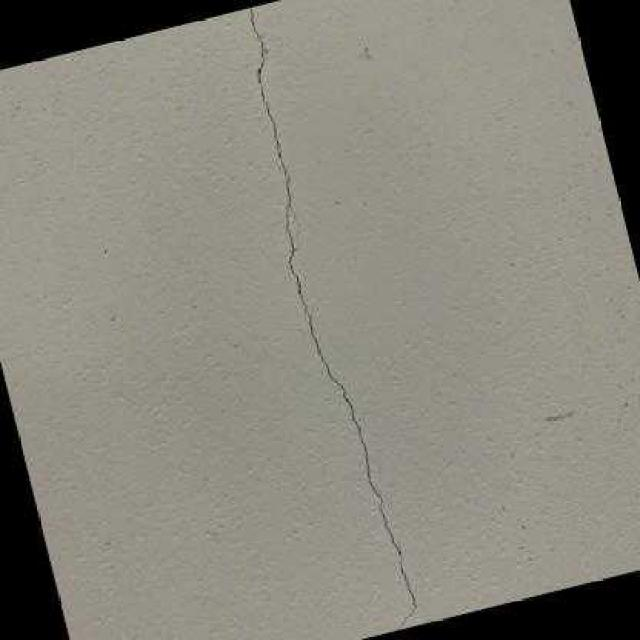D00: (249, 8, 416, 625)
